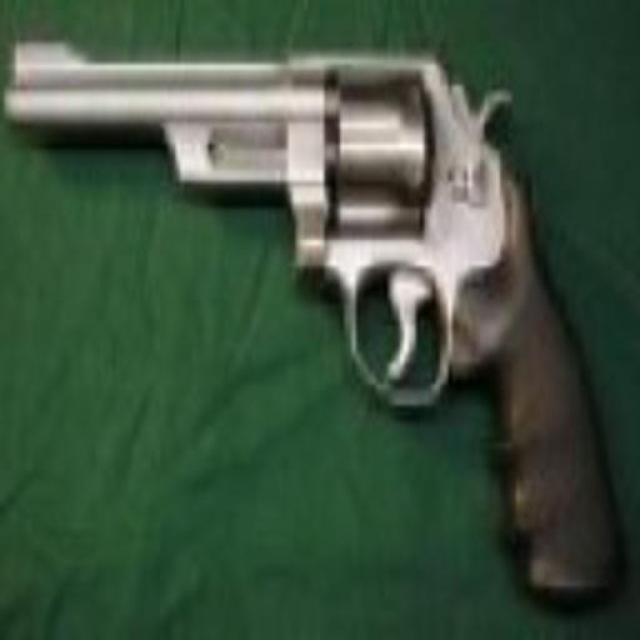pistol: (7, 26, 627, 617)
